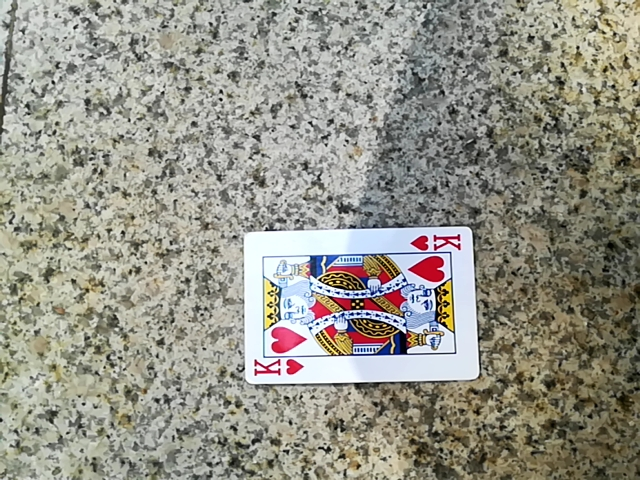hx k: (239, 225, 477, 389)
